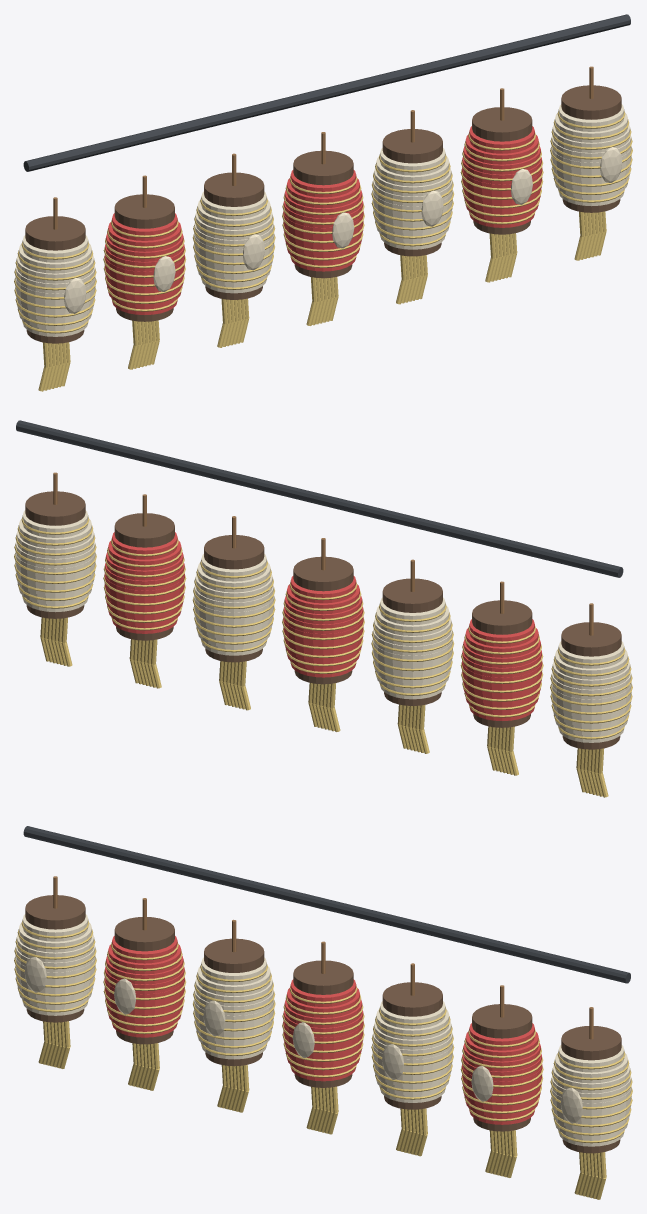
File: stage_lantern_string.glb
3 renders of one model, top to bottom at view 1: azimuth 30°, elevation 25°; view 2: azimuth 150°, elevation 25°; view 3: azimuth 330°, elevation 25°, orthographic.
Parts seen in each view (by area): view 1: Horizontal festival lantern cable, Individual hanging lantern row thin top, Individual hanging lantern row thin top.006, Individual hanging lantern row thin top.001, Individual hanging lantern row thin top.005, Individual hanging lantern row thin top.003, Individual hanging lantern row thin top.004, Individual hanging lantern row thin top.002, Individual hanging lantern row folded paper.052, Individual hanging lantern row folded paper.016, Individual hanging lantern row folded paper.034, Individual hanging lantern row folded paper.007 (+41 smaller); view 2: Horizontal festival lantern cable, Individual hanging lantern row thin top, Individual hanging lantern row thin top.006, Individual hanging lantern row thin top.001, Individual hanging lantern row thin top.005, Individual hanging lantern row thin top.003, Individual hanging lantern row thin top.004, Individual hanging lantern row thin top.002, Individual hanging lantern row folded paper.052, Individual hanging lantern row folded paper.016, Individual hanging lantern row folded paper.034, Individual hanging lantern row folded paper.007 (+45 smaller); view 3: Horizontal festival lantern cable, Individual hanging lantern row thin top, Individual hanging lantern row thin top.003, Individual hanging lantern row thin top.004, Individual hanging lantern row thin top.006, Individual hanging lantern row thin top.005, Individual hanging lantern row thin top.001, Individual hanging lantern row thin top.002, Individual hanging lantern row folded paper.043, Individual hanging lantern row folded paper.034, Individual hanging lantern row folded paper.052, Individual hanging lantern row folded paper.016 (+42 smaller).
Part boxes in pixels (left/top/right/bottom): Horizontal festival lantern cable: left=23, top=14, right=630, bottom=171; Individual hanging lantern row thin top: left=25, top=216, right=85, bottom=250; Individual hanging lantern row thin top.006: left=561, top=85, right=621, bottom=119; Individual hanging lantern row thin top.001: left=114, top=194, right=174, bottom=228; Individual hanging lantern row thin top.005: left=472, top=107, right=532, bottom=141; Individual hanging lantern row thin top.003: left=293, top=150, right=353, bottom=185; Individual hanging lantern row thin top.004: left=382, top=129, right=442, bottom=163; Individual hanging lantern row thin top.002: left=204, top=172, right=264, bottom=206; Individual hanging lantern row folded paper.052: left=465, top=134, right=538, bottom=164; Individual hanging lantern row folded paper.016: left=108, top=222, right=181, bottom=251; Individual hanging lantern row folded paper.034: left=287, top=178, right=359, bottom=208; Individual hanging lantern row folded paper.007: left=19, top=243, right=91, bottom=273; Horizontal festival lantern cable: left=16, top=420, right=623, bottom=577; Individual hanging lantern row thin top: left=561, top=622, right=621, bottom=656; Individual hanging lantern row thin top.006: left=25, top=491, right=85, bottom=525; Individual hanging lantern row thin top.001: left=472, top=600, right=532, bottom=634; Individual hanging lantern row thin top.005: left=114, top=513, right=174, bottom=547; Individual hanging lantern row thin top.003: left=293, top=556, right=353, bottom=591; Individual hanging lantern row thin top.004: left=204, top=535, right=264, bottom=569; Individual hanging lantern row thin top.002: left=382, top=578, right=442, bottom=612; Individual hanging lantern row folded paper.052: left=108, top=540, right=181, bottom=570; Individual hanging lantern row folded paper.016: left=465, top=628, right=538, bottom=657; Individual hanging lantern row folded paper.034: left=287, top=584, right=359, bottom=614; Individual hanging lantern row folded paper.007: left=555, top=649, right=627, bottom=679; Horizontal festival lantern cable: left=23, top=826, right=630, bottom=983; Individual hanging lantern row thin top: left=25, top=895, right=85, bottom=929; Individual hanging lantern row thin top.003: left=293, top=960, right=353, bottom=994; Individual hanging lantern row thin top.004: left=382, top=982, right=442, bottom=1016; Individual hanging lantern row thin top.006: left=561, top=1026, right=621, bottom=1060; Individual hanging lantern row thin top.005: left=472, top=1004, right=532, bottom=1038; Individual hanging lantern row thin top.001: left=114, top=917, right=174, bottom=951; Individual hanging lantern row thin top.002: left=204, top=938, right=264, bottom=972; Individual hanging lantern row folded paper.043: left=376, top=1009, right=449, bottom=1039; Individual hanging lantern row folded paper.034: left=287, top=988, right=359, bottom=1017; Individual hanging lantern row folded paper.052: left=465, top=1032, right=538, bottom=1061; Individual hanging lantern row folded paper.016: left=108, top=944, right=181, bottom=974.
Size of the model in its own units: 1.95 by 0.7139 by 0.2341.
